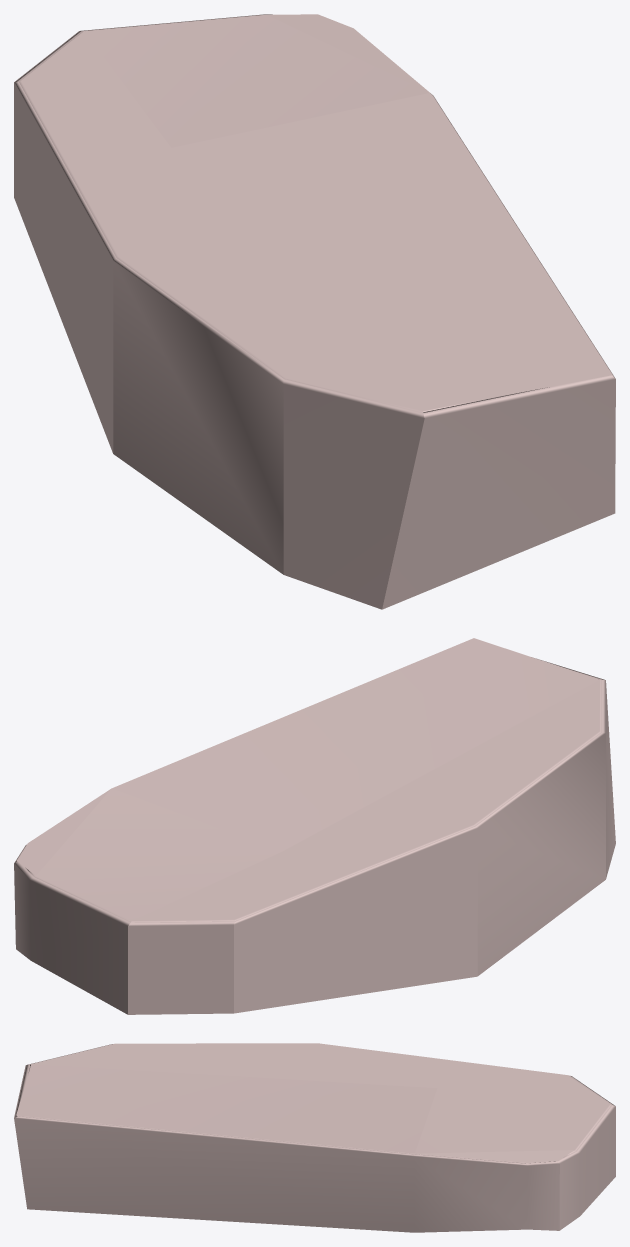
The model's file is bevelrocktest.fbx.
3 renders of one model, top to bottom at view 1: azimuth 30°, elevation 25°; view 2: azimuth 150°, elevation 25°; view 3: azimuth 270°, elevation 25°, orthographic. The views are drawn at different scales.
Visible parts, largest first — view 1: R3B14; view 2: R3B14; view 3: R3B14.
Boxes of the visible parts, left/top/right/bottom form: R3B14: left=14, top=14, right=615, bottom=609; R3B14: left=14, top=638, right=615, bottom=1014; R3B14: left=14, top=1043, right=615, bottom=1232.
Size of the model in its own units: 2891 by 1386 by 5941.
